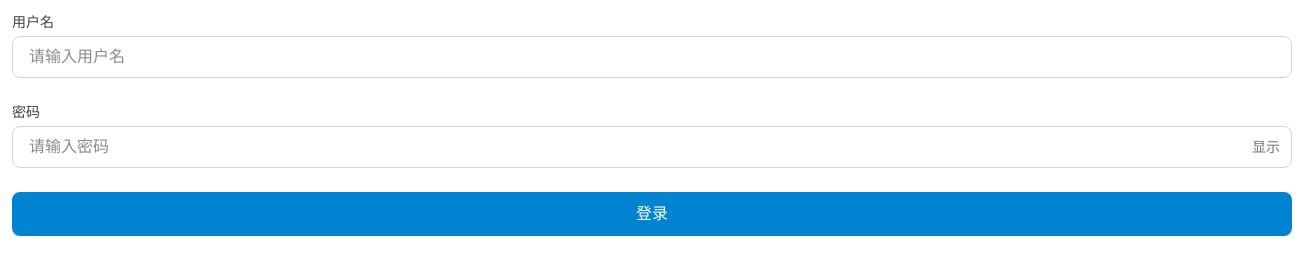
Scenario: LoginForm › should show success toast after successful login
Type "admin" into the field labelled "用户名" at point(652, 57), box [12,36,1292,78]
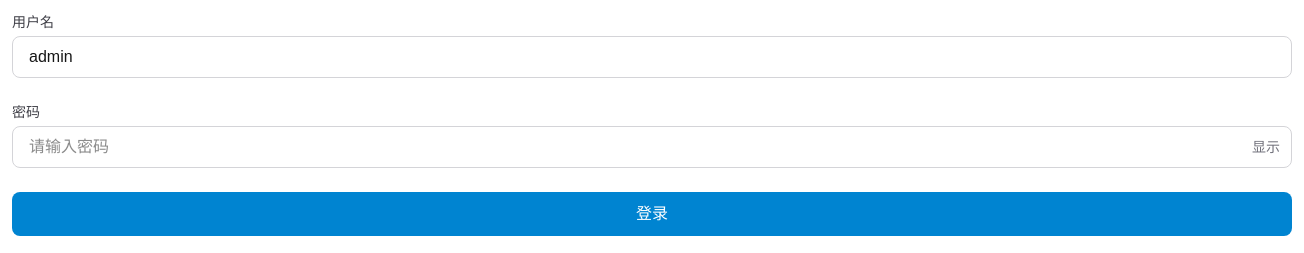
Type "123456" into the password field labelled "密码" at point(652, 147), box [12,126,1292,168]
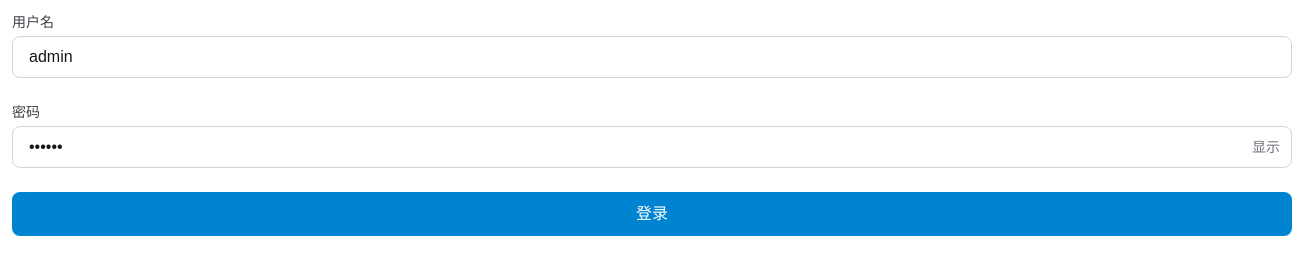
Click the button "登录" at point(652, 214), box [12,192,1292,236]
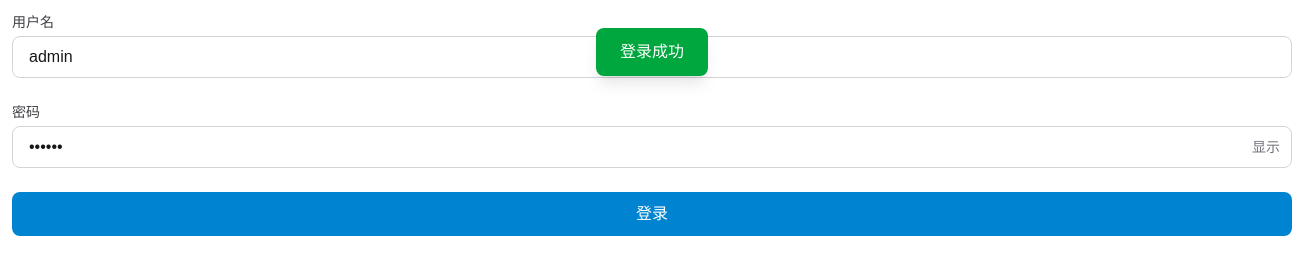
expect the text "登录成功" is shown: met, box [596,28,708,76]
